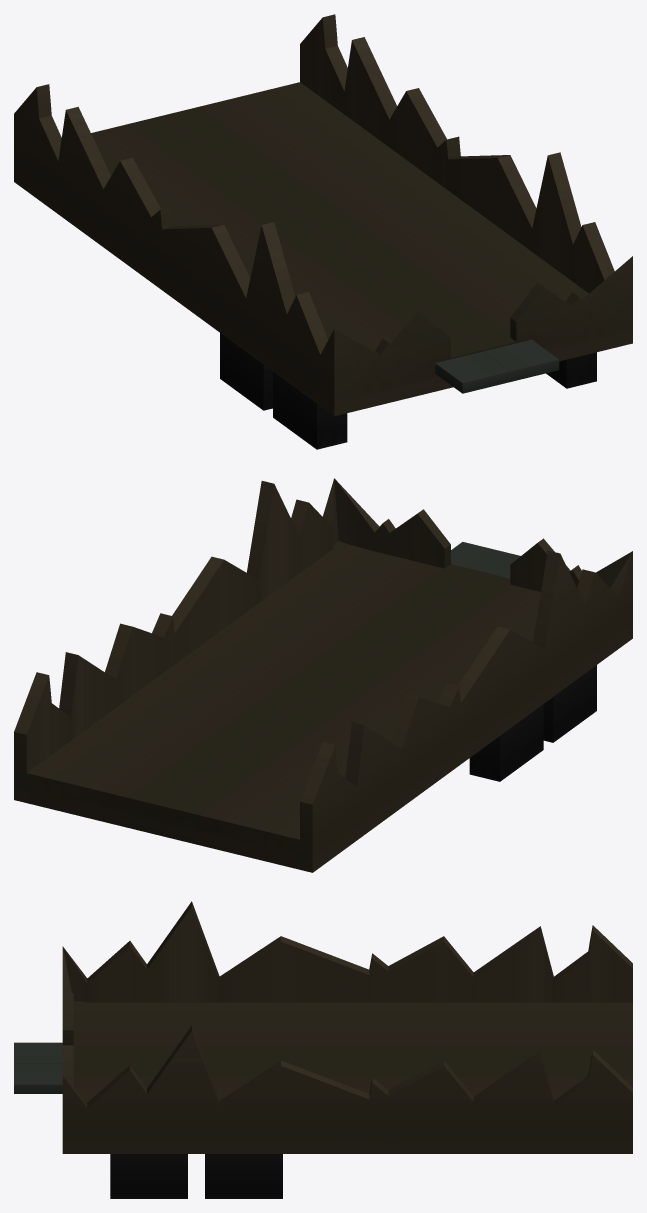
File: train_half_broken_placeholder_v011 1.fbx
3 renders of one model, top to bottom at view 1: azimuth 30°, elevation 25°; view 2: azimuth 150°, elevation 25°; view 3: azimuth 270°, elevation 25°, orthographic. The views are drawn at different scales.
Visible parts, largest first — view 1: base destroyed; view 2: base destroyed; view 3: base destroyed.
Part boxes in pixels (x1,y1,x2,y2): base destroyed: (14, 14, 632, 449); base destroyed: (14, 478, 632, 872); base destroyed: (14, 901, 632, 1198).
Size of the model in its own units: 296 by 596 by 183.
Materials: 1 (1 with a texture image).
